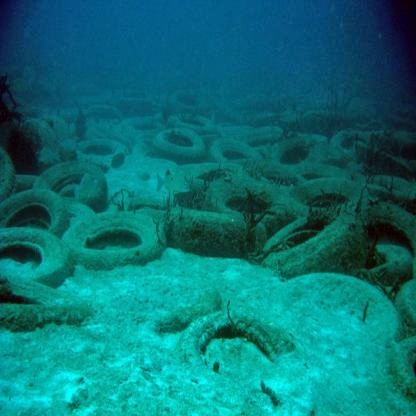tire: (172, 305, 295, 394), (178, 302, 295, 392), (164, 176, 264, 251), (258, 214, 366, 267), (63, 214, 166, 266), (1, 222, 61, 292), (35, 158, 108, 215), (4, 190, 68, 250), (299, 174, 367, 211), (205, 136, 258, 177), (71, 132, 129, 169), (146, 125, 201, 160), (265, 132, 316, 163), (177, 112, 222, 140), (328, 130, 363, 148)
